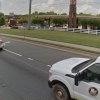Car: (43, 44, 100, 100)
